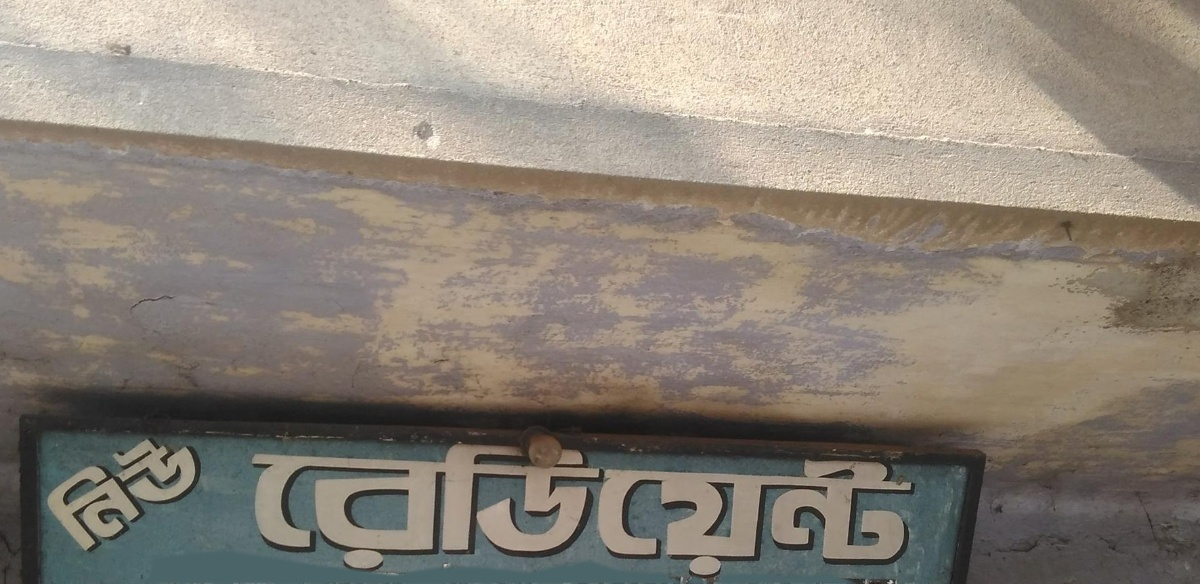text: (257, 418, 272, 584), (273, 418, 288, 584), (289, 418, 304, 584), (305, 418, 320, 584), (321, 418, 336, 584), (337, 418, 352, 584), (353, 418, 368, 584), (369, 418, 384, 584), (385, 418, 400, 584), (401, 418, 416, 584), (417, 418, 432, 584), (433, 418, 448, 584), (449, 418, 464, 584), (465, 418, 480, 584), (481, 418, 496, 584), (497, 418, 512, 584), (513, 418, 528, 584), (529, 418, 544, 584), (545, 418, 560, 584), (561, 418, 576, 584), (577, 418, 592, 584), (593, 418, 608, 584), (609, 418, 624, 584), (625, 418, 640, 584), (641, 418, 656, 584), (657, 418, 672, 584), (673, 418, 688, 584), (689, 418, 704, 584), (705, 418, 720, 584), (721, 418, 736, 584), (737, 418, 752, 584), (753, 418, 768, 584), (769, 418, 784, 584), (785, 418, 800, 584), (801, 418, 816, 584), (817, 418, 832, 584), (833, 418, 848, 584), (849, 418, 864, 584), (865, 418, 880, 584), (881, 418, 896, 584), (897, 418, 912, 584), (242, 418, 256, 584), (49, 415, 64, 563), (65, 415, 80, 563), (81, 415, 96, 563), (97, 415, 112, 563), (113, 415, 128, 563), (129, 415, 144, 563), (145, 415, 160, 563), (161, 415, 176, 563), (177, 415, 192, 563), (193, 415, 208, 563), (913, 418, 926, 584), (38, 415, 48, 563), (209, 415, 217, 563)
